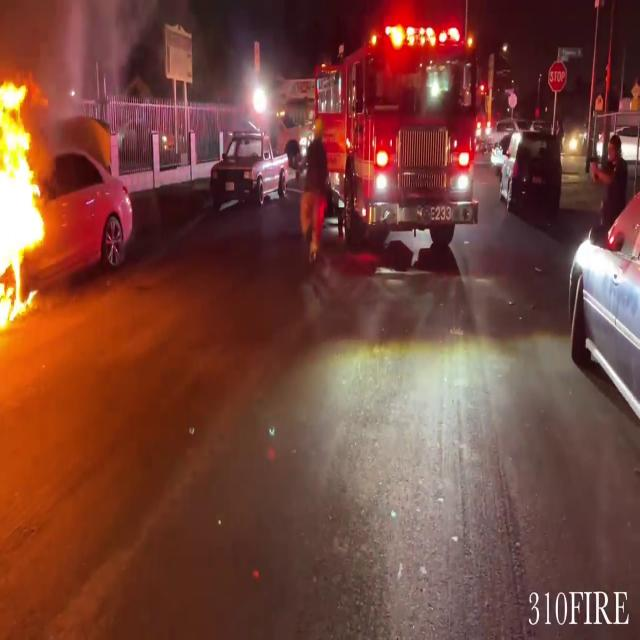Fire: (0, 67, 57, 335)
Smoke: (0, 0, 135, 128)
